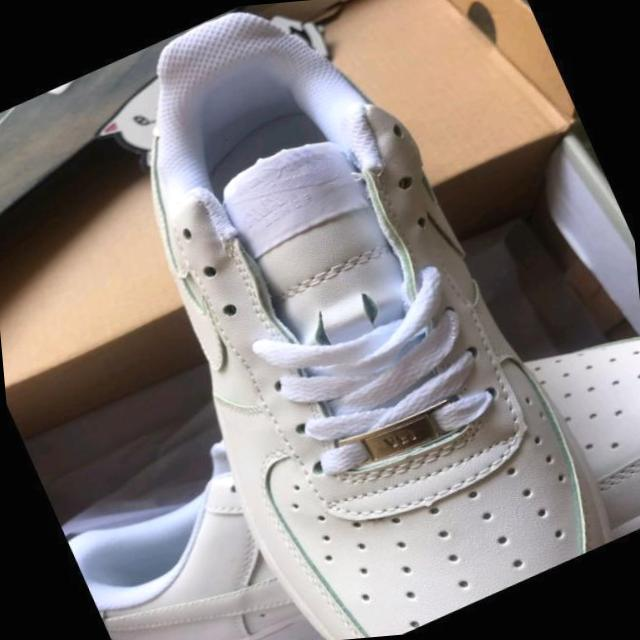nike_fake_airforce: (42, 0, 625, 640), (47, 275, 640, 640)
